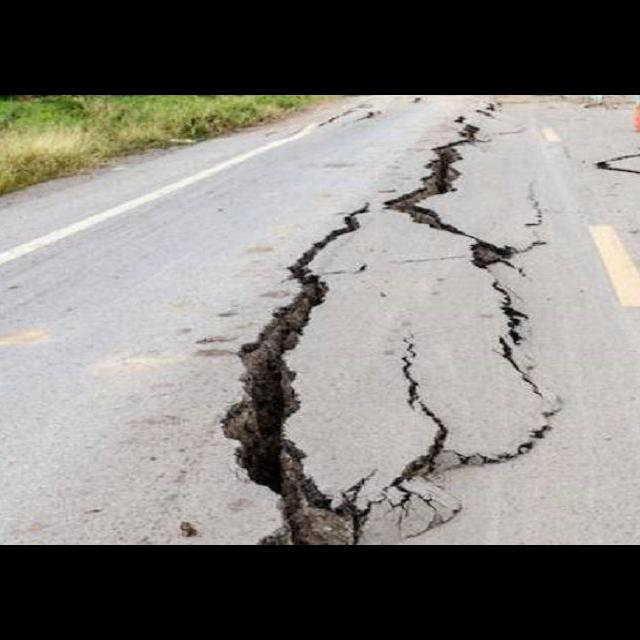retak_memanjang: (226, 99, 556, 545)
